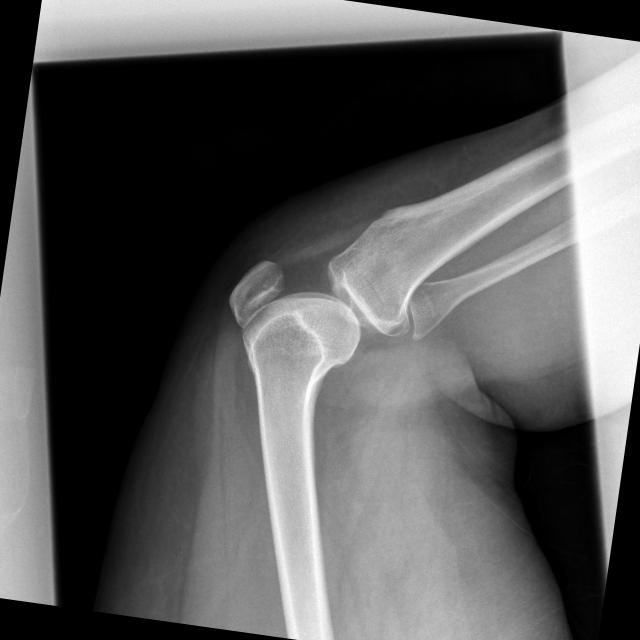Knee: (216, 216, 454, 404)
